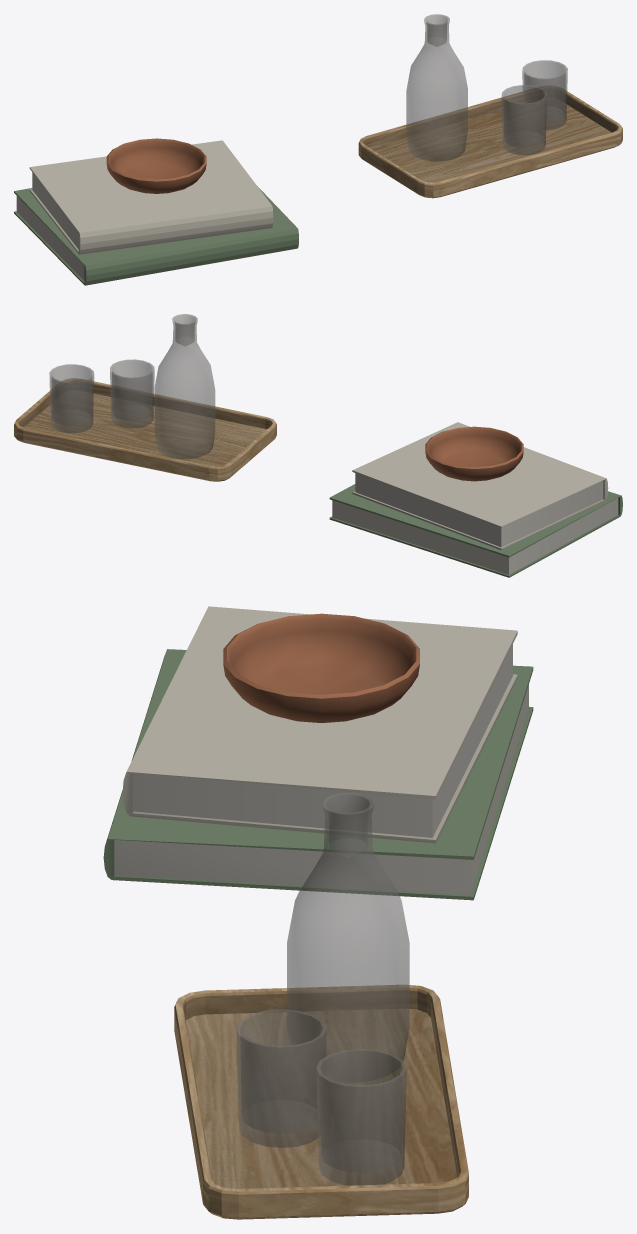
The model's file is decor_d_vignette_dresser.gltf.
The picture shows the model from 3 angles, top to bottom: view 1: azimuth 30°, elevation 25°; view 2: azimuth 150°, elevation 25°; view 3: azimuth 270°, elevation 25°; orthographic projection. The views are drawn at different scales.
Visible parts, largest first — view 1: DecorD_Vignette_Dresser_OakLight_NoCollide, DecorD_Vignette_Dresser_Linen_NoCollide, DecorD_Vignette_Dresser_Glass_NoCollide, DecorD_Vignette_Dresser_Sage_NoCollide, DecorD_Vignette_Dresser_Terracotta_NoCollide, DecorD_Vignette_Dresser_Paper_NoCollide; view 2: DecorD_Vignette_Dresser_OakLight_NoCollide, DecorD_Vignette_Dresser_Glass_NoCollide, DecorD_Vignette_Dresser_Linen_NoCollide, DecorD_Vignette_Dresser_Paper_NoCollide, DecorD_Vignette_Dresser_Terracotta_NoCollide, DecorD_Vignette_Dresser_Sage_NoCollide; view 3: DecorD_Vignette_Dresser_OakLight_NoCollide, DecorD_Vignette_Dresser_Glass_NoCollide, DecorD_Vignette_Dresser_Linen_NoCollide, DecorD_Vignette_Dresser_Paper_NoCollide, DecorD_Vignette_Dresser_Terracotta_NoCollide, DecorD_Vignette_Dresser_Sage_NoCollide.
Part boxes in pixels (x1,y1,x2,y2): DecorD_Vignette_Dresser_OakLight_NoCollide: [358, 86, 622, 198]; DecorD_Vignette_Dresser_Linen_NoCollide: [29, 140, 273, 254]; DecorD_Vignette_Dresser_Glass_NoCollide: [406, 14, 567, 161]; DecorD_Vignette_Dresser_Sage_NoCollide: [14, 186, 298, 285]; DecorD_Vignette_Dresser_Terracotta_NoCollide: [106, 138, 206, 193]; DecorD_Vignette_Dresser_Paper_NoCollide: [16, 172, 84, 280]; DecorD_Vignette_Dresser_OakLight_NoCollide: [14, 378, 276, 481]; DecorD_Vignette_Dresser_Glass_NoCollide: [49, 314, 215, 459]; DecorD_Vignette_Dresser_Linen_NoCollide: [352, 422, 608, 550]; DecorD_Vignette_Dresser_Paper_NoCollide: [332, 473, 618, 574]; DecorD_Vignette_Dresser_Terracotta_NoCollide: [425, 426, 523, 481]; DecorD_Vignette_Dresser_Sage_NoCollide: [329, 484, 622, 577]; DecorD_Vignette_Dresser_OakLight_NoCollide: [174, 985, 468, 1219]; DecorD_Vignette_Dresser_Glass_NoCollide: [236, 793, 409, 1185]; DecorD_Vignette_Dresser_Linen_NoCollide: [122, 606, 517, 843]; DecorD_Vignette_Dresser_Paper_NoCollide: [114, 644, 528, 894]; DecorD_Vignette_Dresser_Terracotta_NoCollide: [223, 613, 419, 723]; DecorD_Vignette_Dresser_Sage_NoCollide: [103, 649, 533, 900].
Size of the model in its own units: 0.9433 by 0.222 by 0.3222.
Materials: 6 (1 with a texture image).
